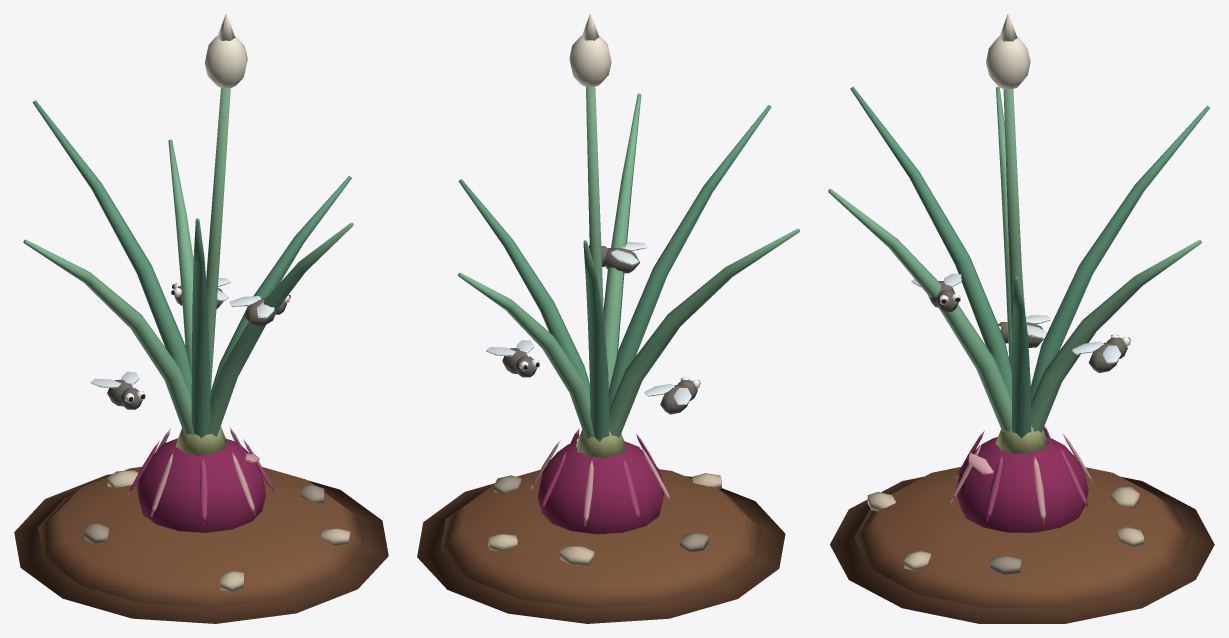
File: onion.glb
3 renders of one model, left to right at view 1: azimuth 30°, elevation 25°; view 2: azimuth 150°, elevation 25°; view 3: azimuth 270°, elevation 25°, orthographic. The views are drawn at different scales.
Parts seen in each view (by area): view 1: RV_mound_soil, RV_mound_rim, RV_crown_bulb, RV_leaf_3_blade, RV_leaf_4_blade, RV_leaf_6_blade, RV_leaf_5_blade, RV_shoot_stem, RV_leaf_2_blade, RV_mound, RV_leaf_1_blade, RV_shoot_bud (+2 smaller); view 2: RV_mound_soil, RV_mound_rim, RV_crown_bulb, RV_leaf_4_blade, RV_leaf_5_blade, RV_leaf_6_blade, RV_leaf_3_blade, RV_leaf_2_blade, RV_leaf_1_blade, RV_mound, RV_shoot_stem, RV_shoot_bud (+2 smaller); view 3: RV_mound_soil, RV_mound_rim, RV_crown_bulb, RV_leaf_5_blade, RV_leaf_6_blade, RV_leaf_3_blade, RV_leaf_2_blade, RV_leaf_1_blade, RV_shoot_stem, RV_mound, RV_shoot_bud, RV_crown (+2 smaller).
Part boxes in pixels (x1,y1,x2,y2): RV_mound_soil: (38, 467, 364, 607); RV_mound_rim: (14, 474, 388, 623); RV_crown_bulb: (137, 438, 265, 532); RV_leaf_3_blade: (32, 100, 191, 397); RV_leaf_4_blade: (23, 239, 194, 435); RV_leaf_6_blade: (207, 222, 353, 436); RV_leaf_5_blade: (191, 218, 210, 437); RV_shoot_stem: (206, 87, 230, 396); RV_leaf_2_blade: (168, 139, 193, 371); RV_mound: (84, 470, 350, 592); RV_leaf_1_blade: (210, 175, 351, 398); RV_shoot_bud: (204, 36, 247, 88); RV_mound_soil: (440, 469, 761, 608); RV_mound_rim: (417, 476, 785, 623); RV_crown_bulb: (537, 441, 664, 534); RV_leaf_4_blade: (609, 228, 799, 437); RV_leaf_5_blade: (608, 105, 771, 407); RV_leaf_6_blade: (603, 93, 641, 389); RV_leaf_3_blade: (583, 240, 609, 441); RV_leaf_2_blade: (458, 273, 594, 439); RV_leaf_1_blade: (458, 179, 589, 395); RV_mound: (488, 473, 721, 565); RV_shoot_stem: (586, 86, 603, 314); RV_shoot_bud: (569, 35, 611, 86); RV_mound_soil: (854, 467, 1190, 607); RV_mound_rim: (830, 476, 1214, 623); RV_crown_bulb: (956, 437, 1088, 532); RV_leaf_5_blade: (850, 86, 1011, 397); RV_leaf_6_blade: (828, 189, 1011, 432); RV_leaf_3_blade: (1030, 105, 1209, 401); RV_leaf_2_blade: (1031, 240, 1201, 432); RV_leaf_1_blade: (1012, 276, 1031, 438); RV_shoot_stem: (1003, 89, 1023, 338); RV_mound: (867, 487, 1143, 574); RV_shoot_bud: (986, 36, 1030, 89); RV_crown: (951, 426, 1093, 524).
Bounding box in the file's own units: 0.5861 × 0.895 × 0.5522.
